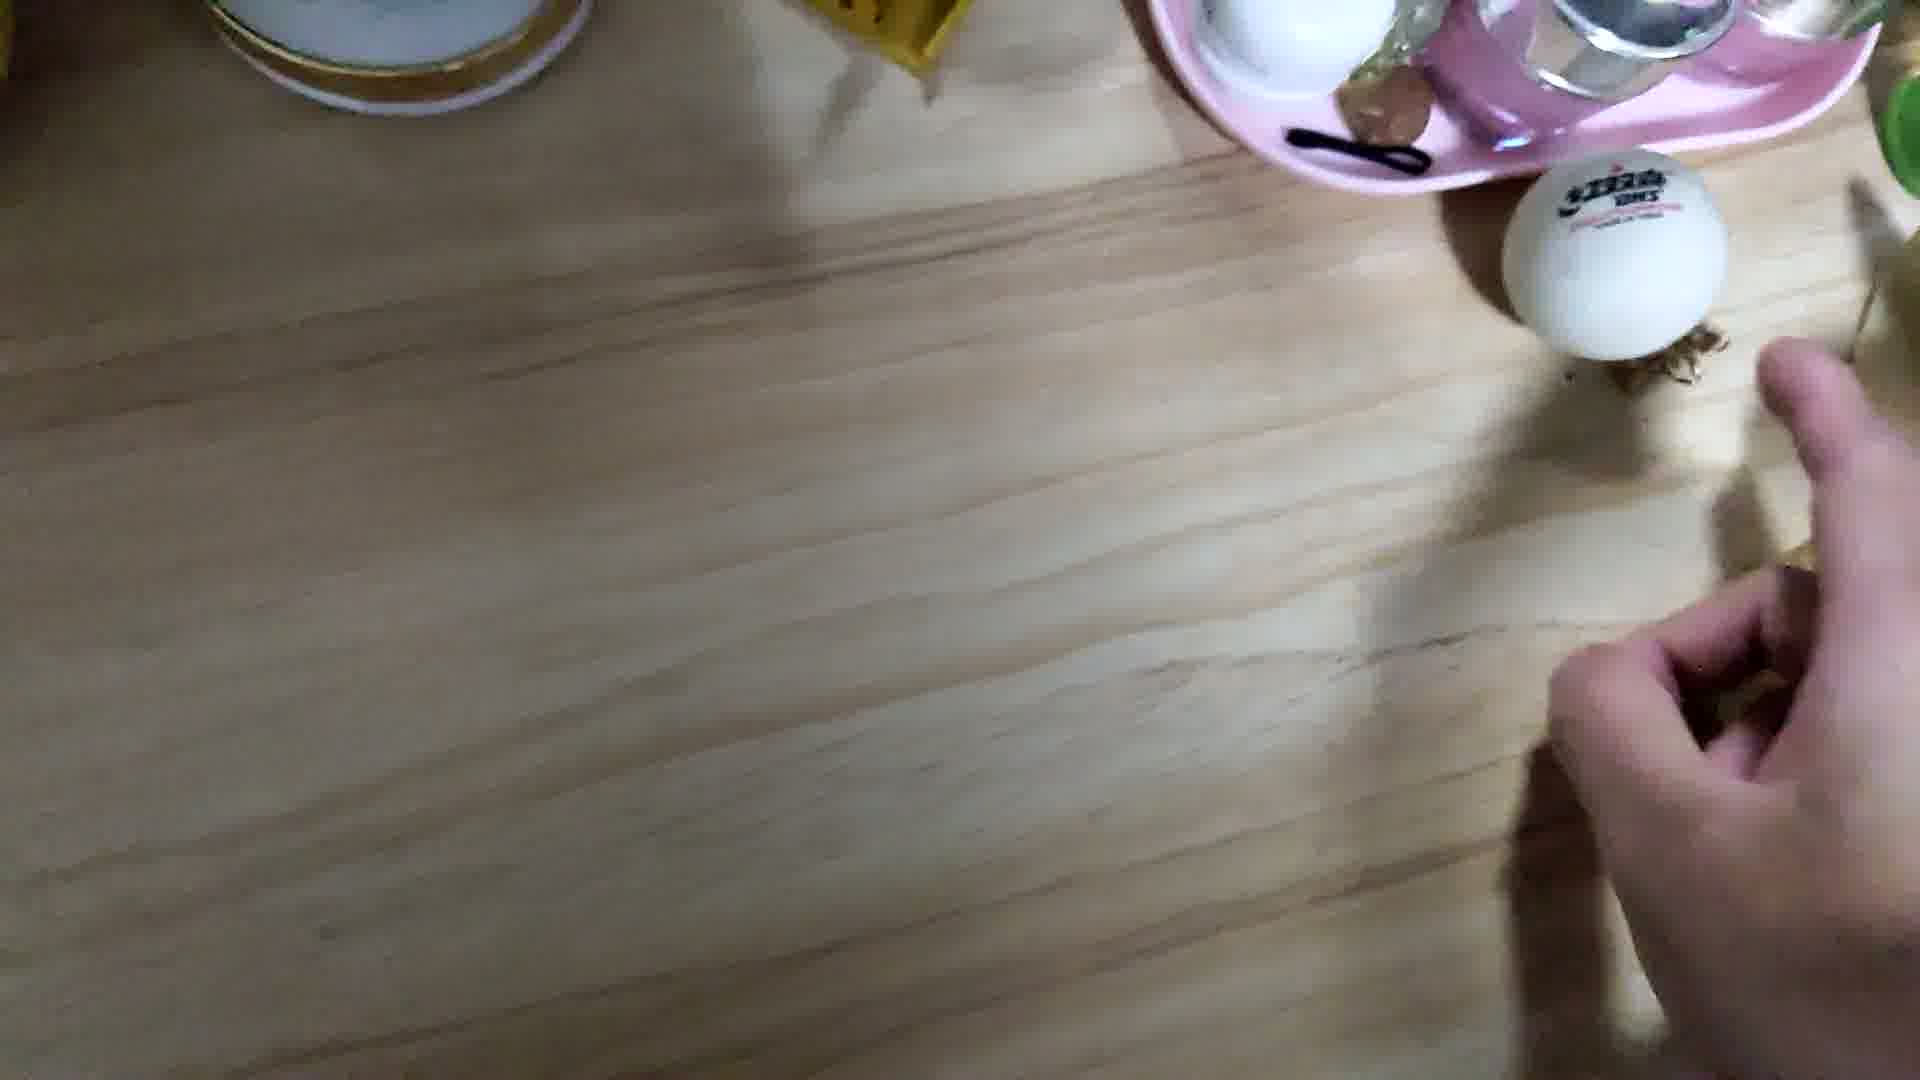Ball: (1495, 156, 1727, 361)
